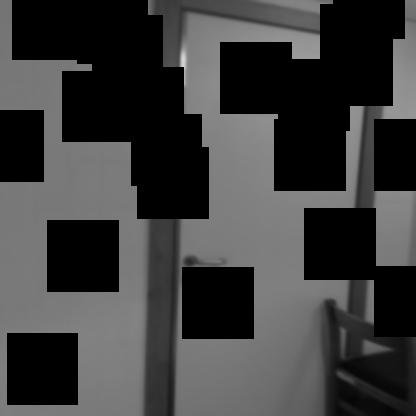Porte: (140, 0, 396, 415)
